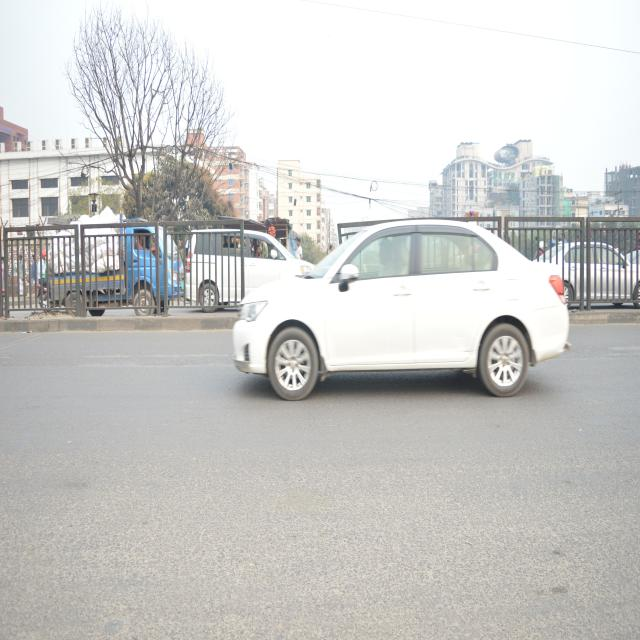car: (242, 221, 570, 408), (555, 237, 640, 320)
microbus: (184, 220, 287, 310)
motorbike: (30, 266, 51, 320)
pickup-van: (51, 210, 170, 324)
